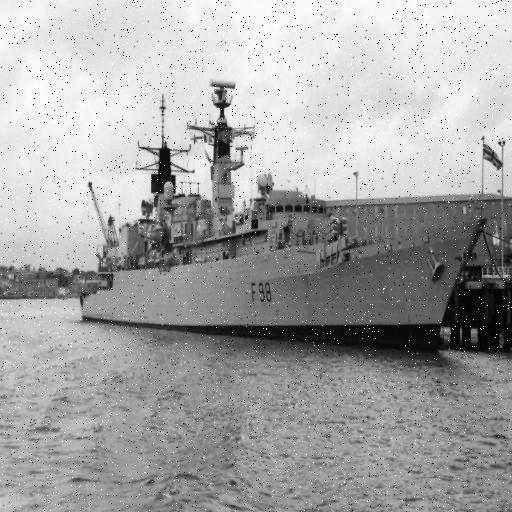Fragata: (75, 69, 490, 355)
